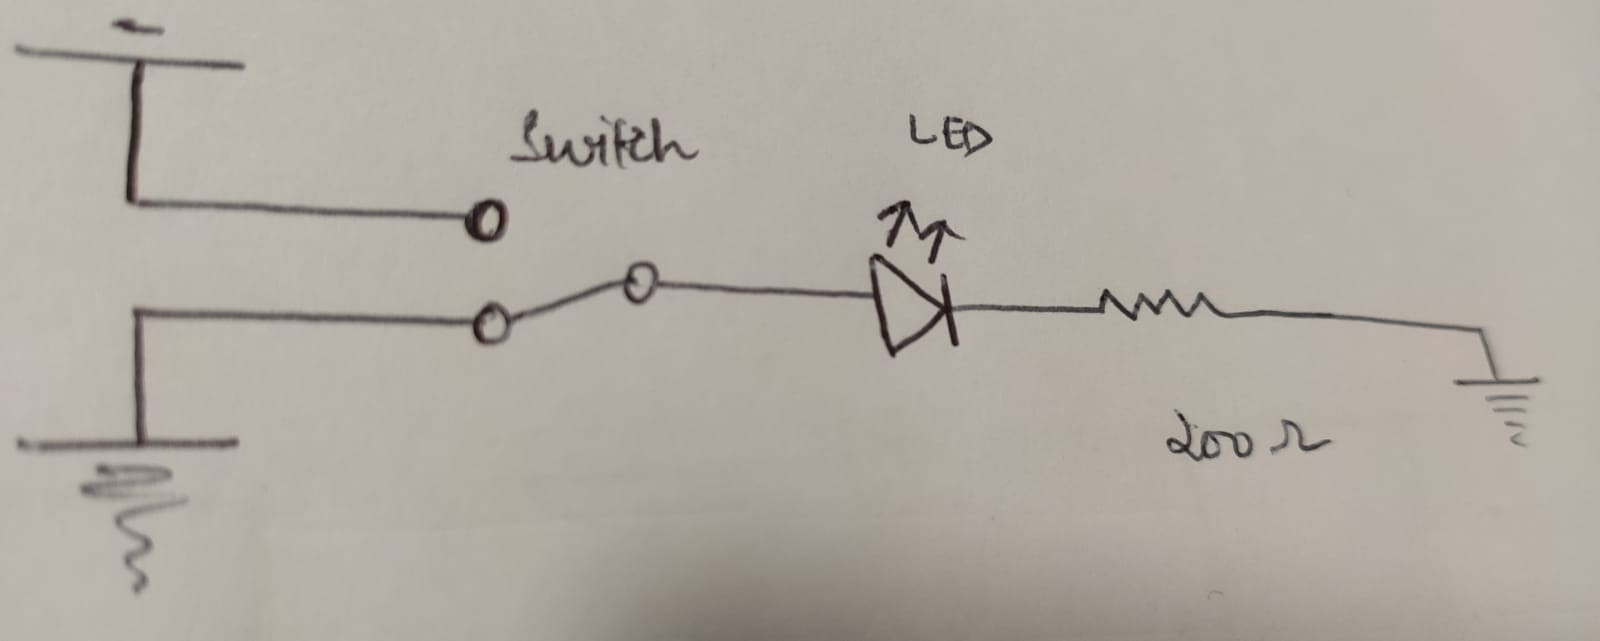diode.light_emitting: (865, 198, 963, 355)
gnd: (16, 430, 233, 594), (1453, 373, 1546, 450)
junction: (119, 292, 158, 331), (115, 182, 153, 221), (1466, 319, 1494, 346)
resistor: (1091, 283, 1224, 323)
switch: (464, 193, 663, 349)
text: (516, 109, 681, 172), (1165, 405, 1334, 464), (904, 113, 992, 155)
voltage.dc: (12, 17, 244, 72)
